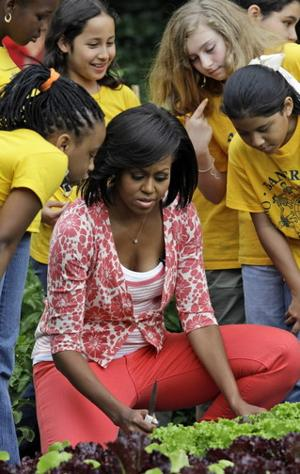person: (31, 103, 300, 466)
